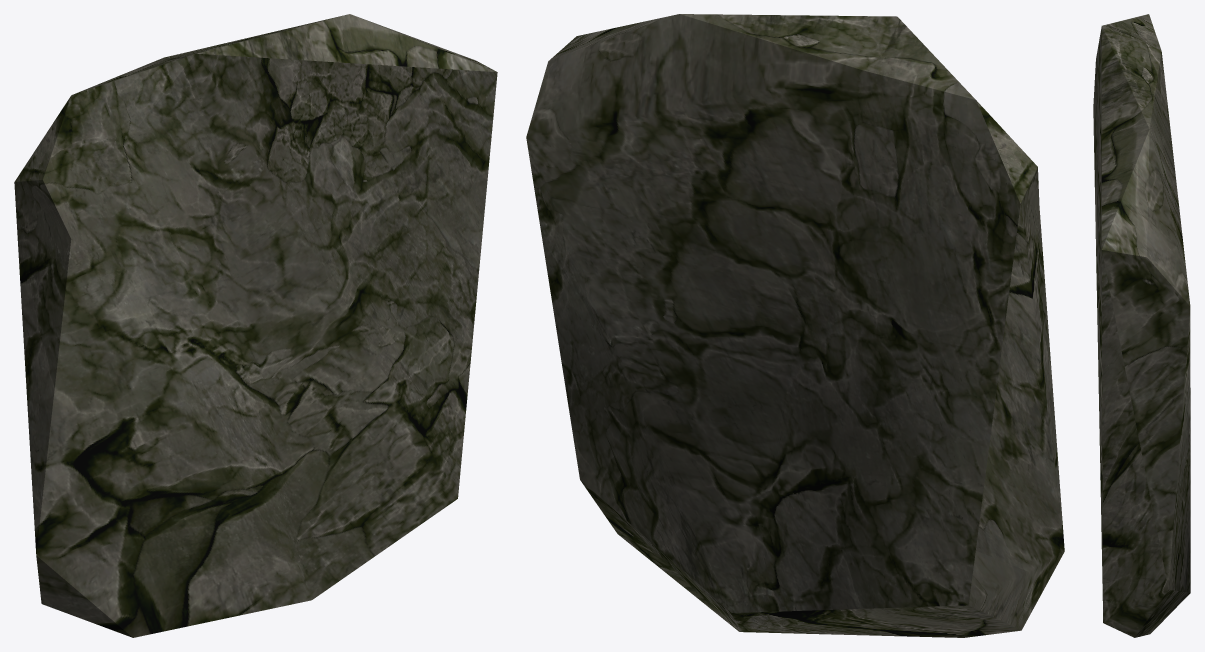
File: TI_Cliff_03_Plate_01.fbx
3 renders of one model, left to right at view 1: azimuth 30°, elevation 25°; view 2: azimuth 150°, elevation 25°; view 3: azimuth 270°, elevation 25°, orthographic. The views are drawn at different scales.
Parts seen in each view (by area): view 1: TI_Cliff_03_Plate_01; view 2: TI_Cliff_03_Plate_01; view 3: TI_Cliff_03_Plate_01.
Boxes of the visible parts, x1,y1,x2,y2 form: TI_Cliff_03_Plate_01: (14,14,497,637); TI_Cliff_03_Plate_01: (526,14,1064,637); TI_Cliff_03_Plate_01: (1093,14,1190,637).
Size of the model in its own units: 2.04 by 2.49 by 0.3979.
